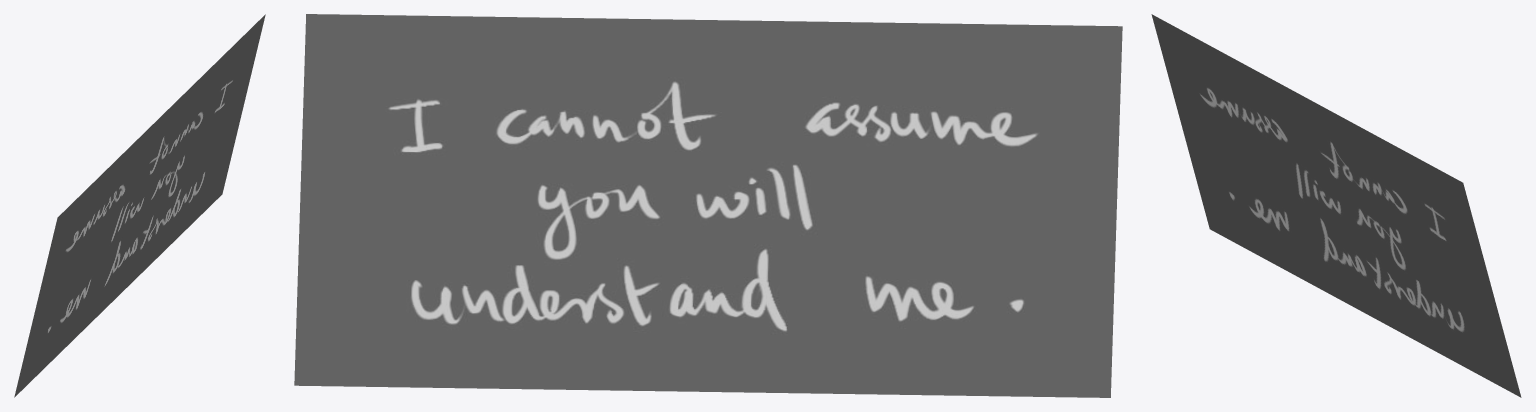
The picture shows the model from 3 angles, left to right: view 1: azimuth 30°, elevation 25°; view 2: azimuth 150°, elevation 25°; view 3: azimuth 270°, elevation 25°; orthographic projection. The views are drawn at different scales.
Parts seen in each view (by area): view 1: Plane.007; view 2: Plane.007; view 3: Plane.007.
Boxes of the visible parts, box(x1,y1,x2,y2) form: Plane.007: box(14, 14, 265, 397); Plane.007: box(294, 14, 1122, 397); Plane.007: box(1151, 14, 1521, 397).
Size of the model in its own units: 2.28 by 1.3 by 1.74.
Materials: 1 (1 with a texture image).
